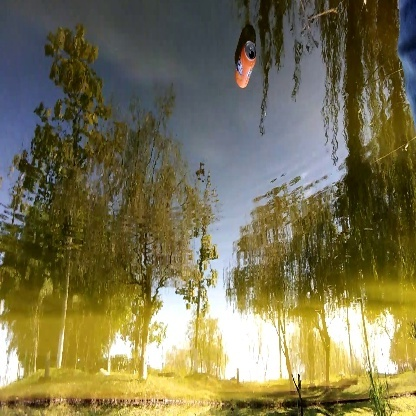bottle: (230, 38, 261, 90)
